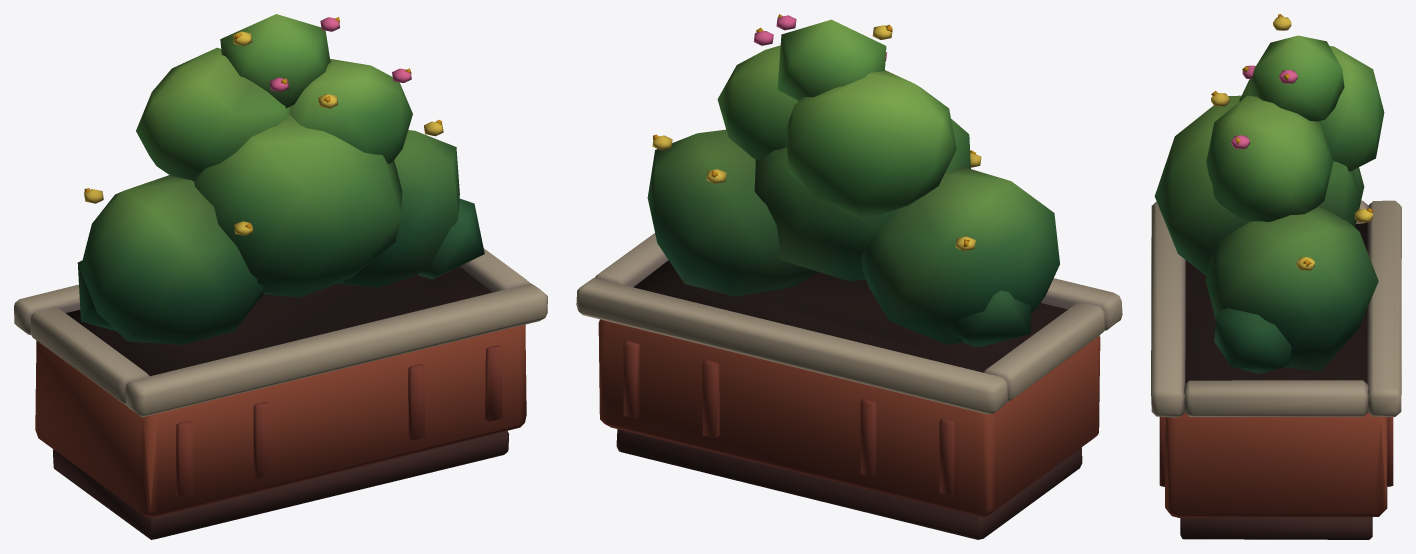
The model's file is jardiniere.glb.
The picture shows the model from 3 angles, left to right: view 1: azimuth 30°, elevation 25°; view 2: azimuth 150°, elevation 25°; view 3: azimuth 270°, elevation 25°; orthographic projection. The views are drawn at different scales.
Visible parts, largest first — view 1: jardiniere; view 2: jardiniere; view 3: jardiniere.
Part boxes in pixels (left/top/right/bottom): jardiniere: left=14, top=14, right=547, bottom=539; jardiniere: left=576, top=14, right=1122, bottom=539; jardiniere: left=1151, top=14, right=1401, bottom=539.
Size of the model in its own units: 1.28 by 1.3 by 0.6966.
